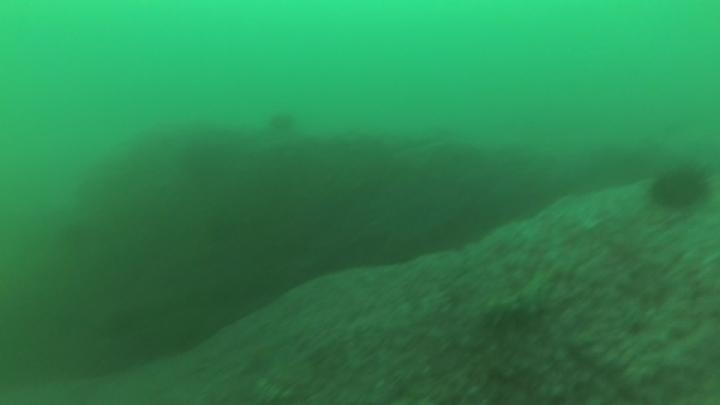echinus: (653, 170, 709, 210), (272, 114, 295, 131)
holothurian: (482, 266, 563, 325)
